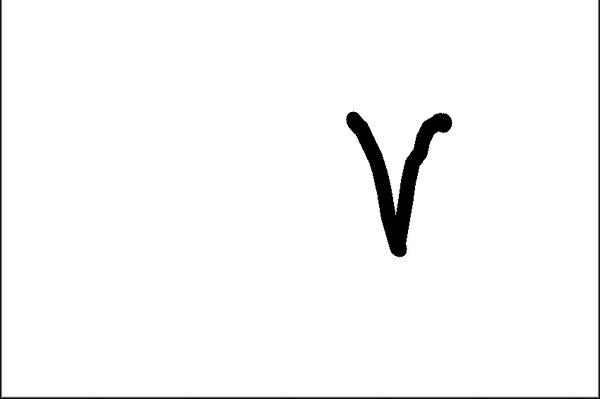V: (341, 91, 461, 266)
